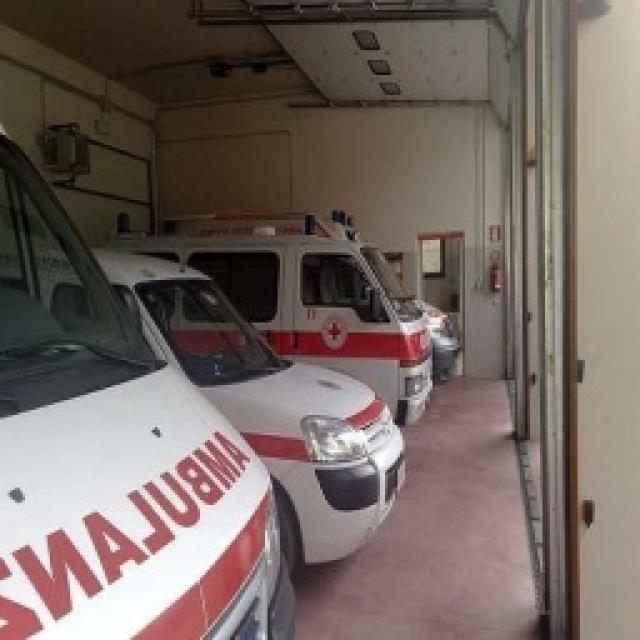emergency-vehicle: (0, 120, 280, 640), (135, 206, 523, 425)
